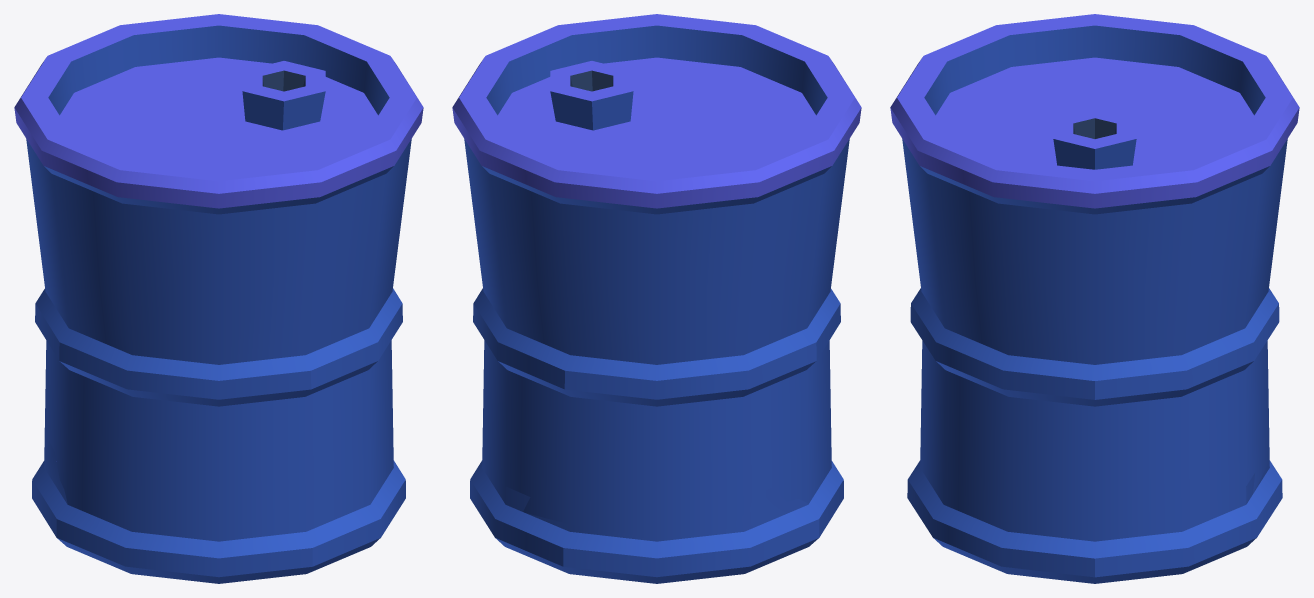
File: barrels3.fbx
3 views of the same model, side by side, from view 1: azimuth 30°, elevation 25°; view 2: azimuth 150°, elevation 25°; view 3: azimuth 270°, elevation 25° (orthographic).
Visible parts, largest first — view 1: barrels3; view 2: barrels3; view 3: barrels3.
Part boxes in pixels (bbox=[...]): barrels3: bbox=[14, 14, 423, 583]; barrels3: bbox=[452, 14, 861, 583]; barrels3: bbox=[890, 14, 1299, 583].
Size of the model in its own units: 2.77 by 3.08 by 2.77.
1 material, 1 textured.
